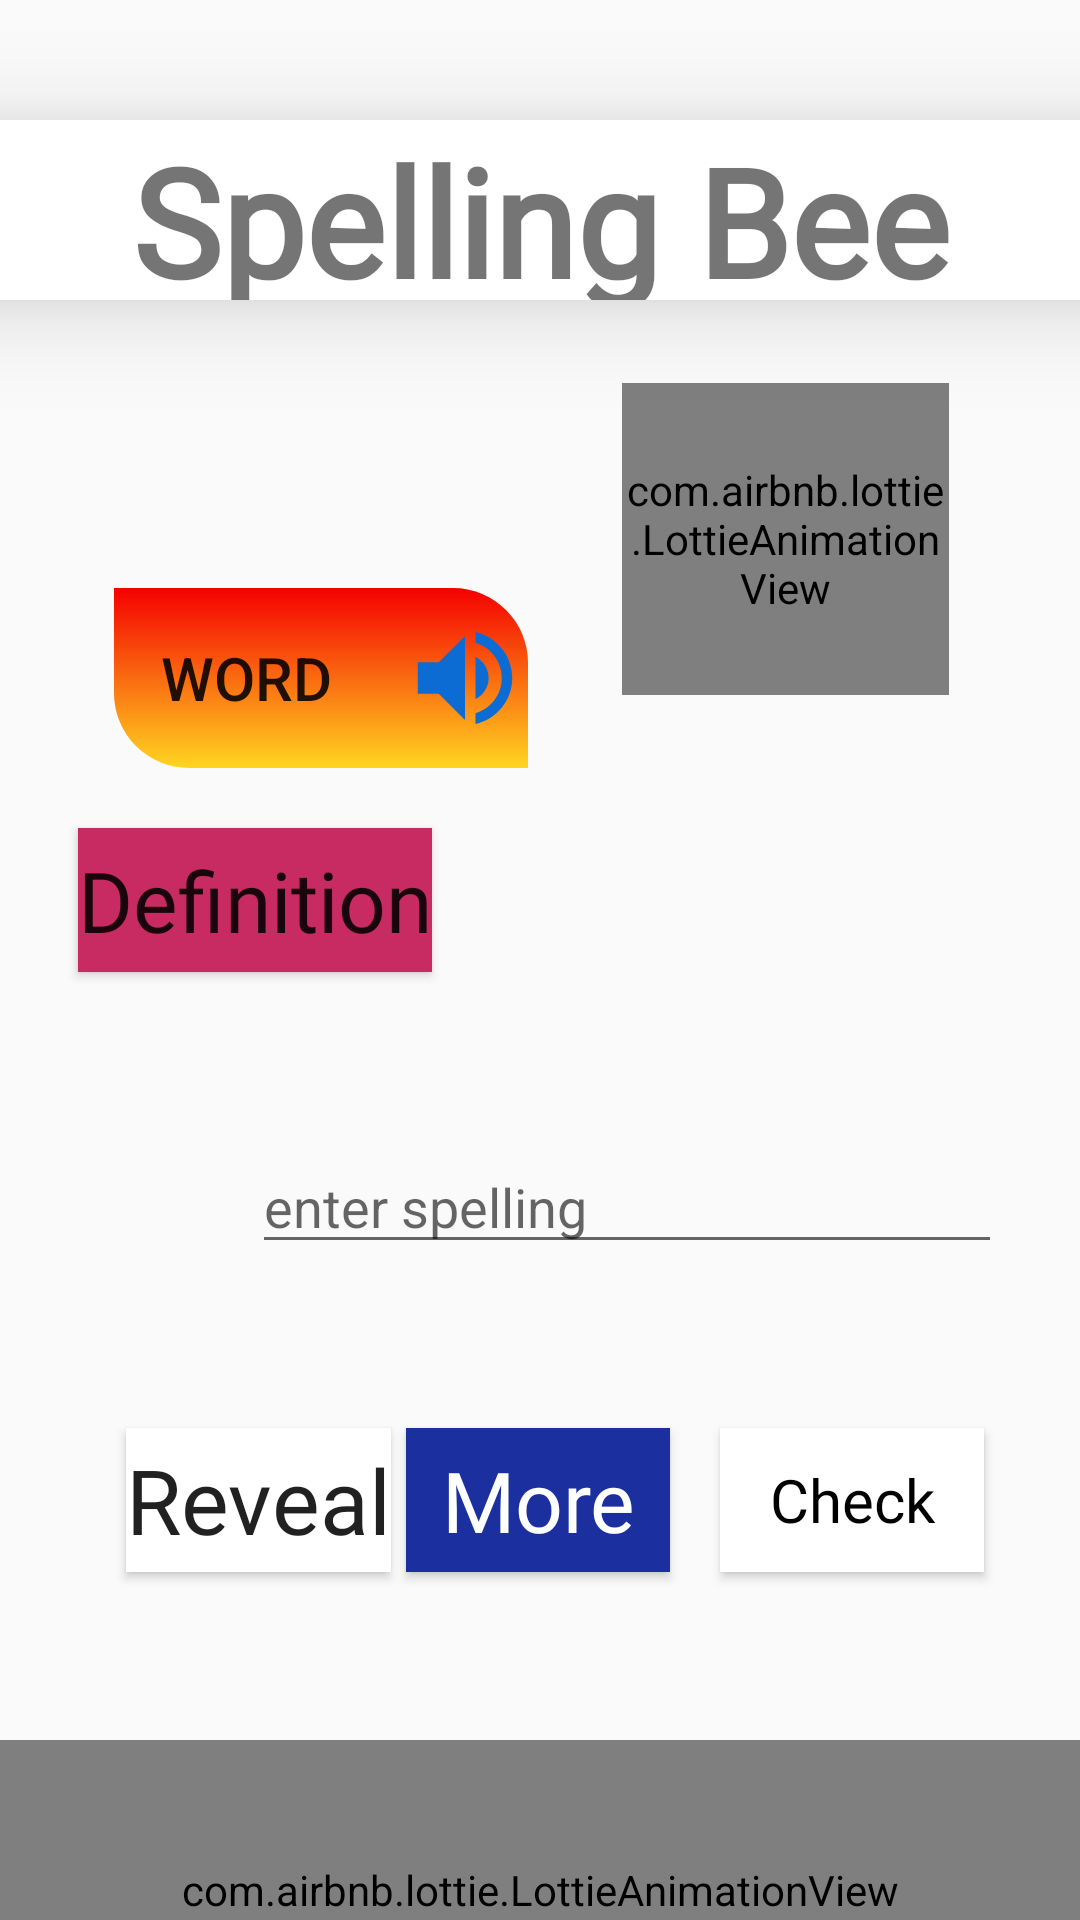

Icons on this 1080w x 1920h Android screen, each with the point to tap as point (x, y):
volume up: point (465, 678)
